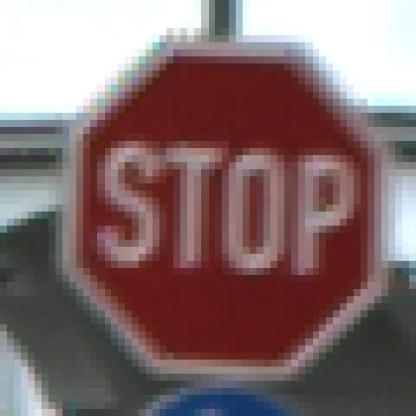stop: (51, 13, 398, 376)
